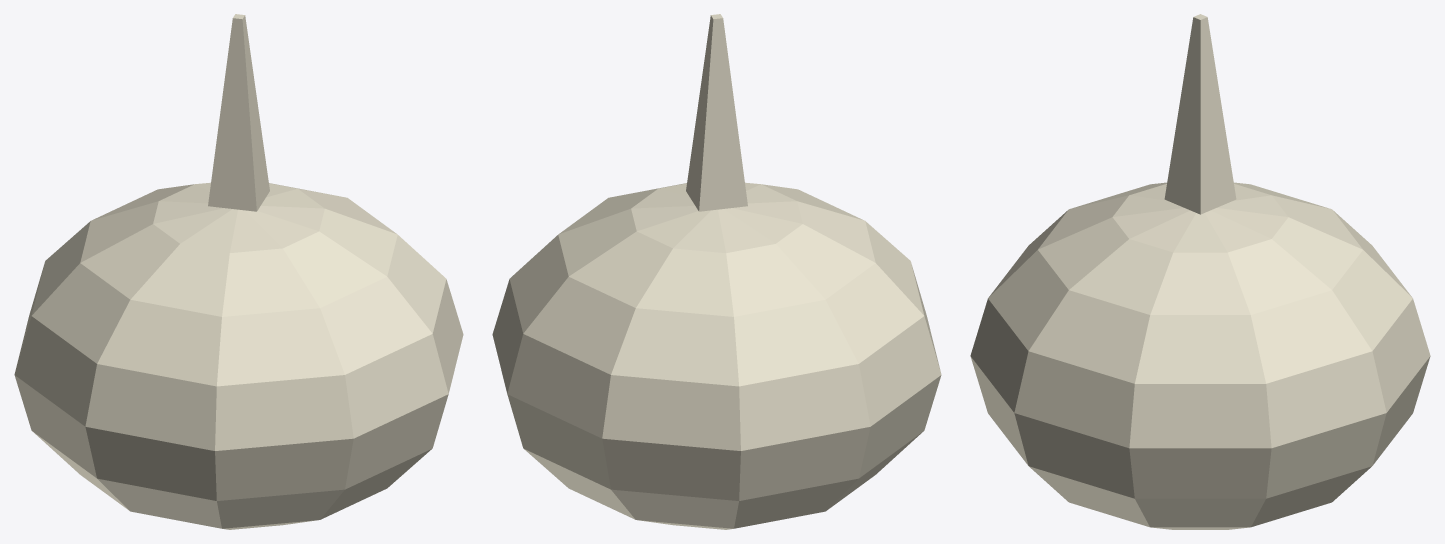
The model's file is bone_helm.dae.
The picture shows the model from 3 angles, left to right: view 1: azimuth 30°, elevation 25°; view 2: azimuth 150°, elevation 25°; view 3: azimuth 270°, elevation 25°; orthographic projection.
Parts seen in each view (by area): view 1: Sphere, Cone; view 2: Sphere, Cone; view 3: Sphere, Cone.
Part boxes in pixels (x1,y1,x2,y2): Sphere: [14, 182, 463, 529]; Cone: [208, 14, 269, 211]; Sphere: [492, 182, 941, 529]; Cone: [686, 14, 747, 211]; Sphere: [970, 182, 1430, 529]; Cone: [1164, 14, 1236, 214].
Bounding box in the file's own units: 60.87 × 64 × 75.04.
